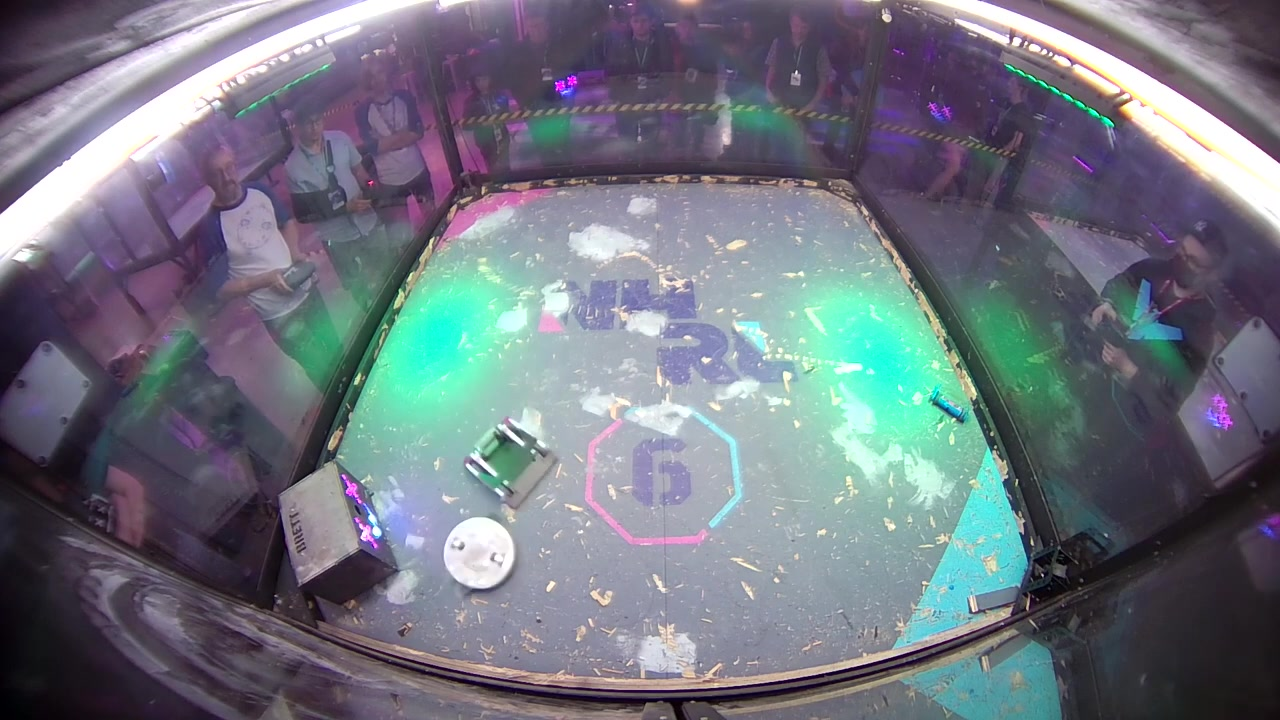combatbot: (442, 516, 518, 590), (467, 422, 541, 493)
debris: (964, 581, 1019, 616), (931, 387, 967, 423), (926, 419, 931, 421)
housebot: (280, 463, 403, 610)
